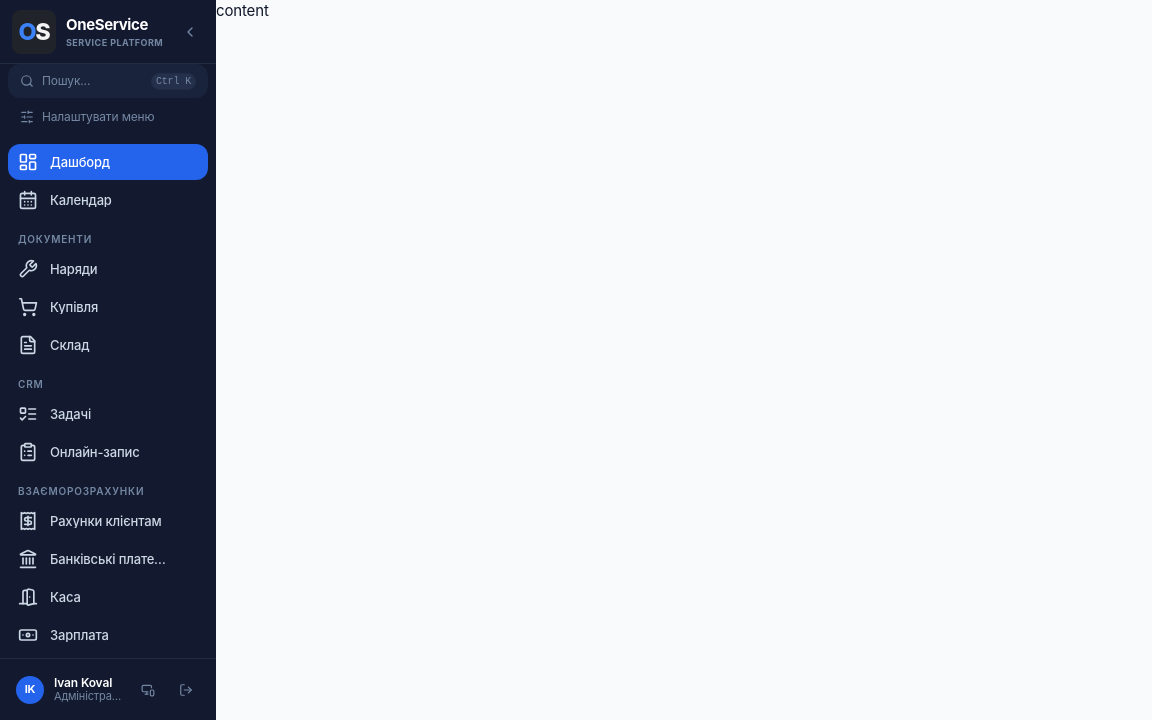
it: TopShell — тексти оболонки за мовою інтерфейсу › uk — підтвердження виходу на всіх пристроях
What coordinates should you click on to do the following:
click the button titled "Вийти на всіх пристроях"
I would click on:
 (148, 690)
Its box is [134,676,162,704].
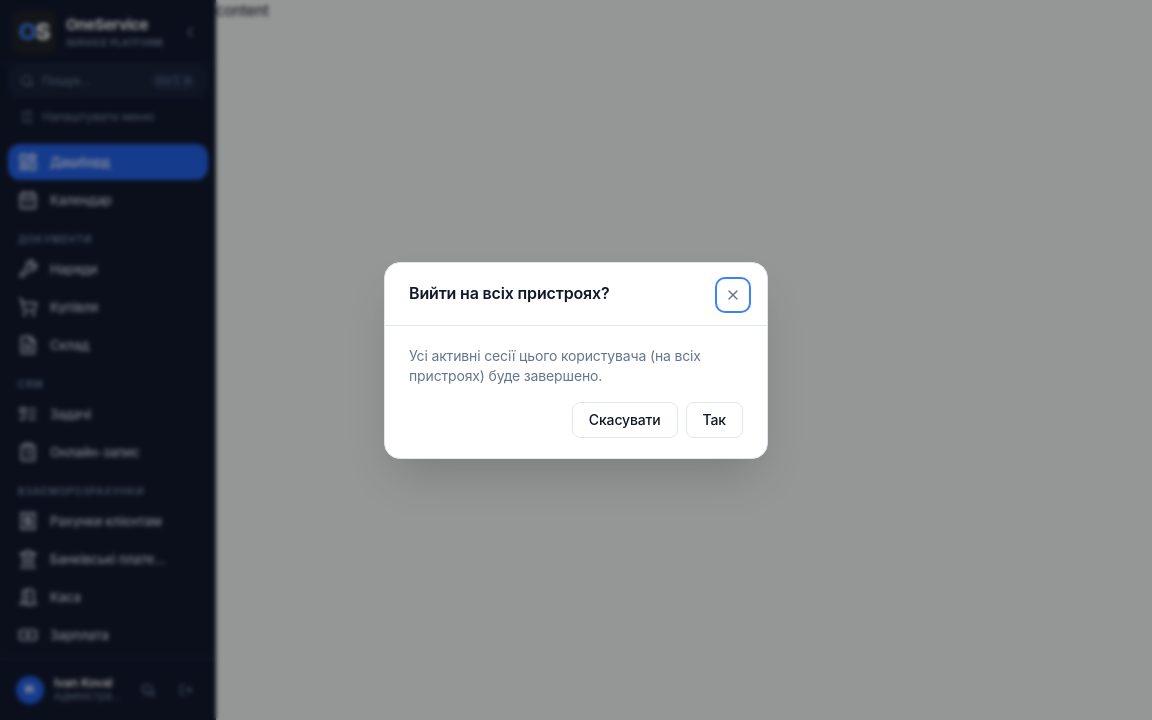
Check: the dialog "Вийти на всіх пристроях?" is shown
Check: the text "Усі активні сесії цього користувача (на всіх пристроях) буде завершено." is shown, box [409,346,743,386]
